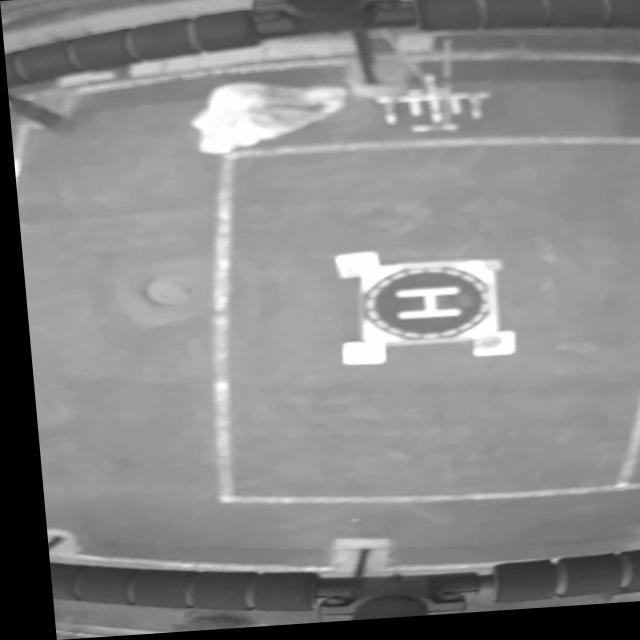Helipad: (391, 293, 456, 324)
